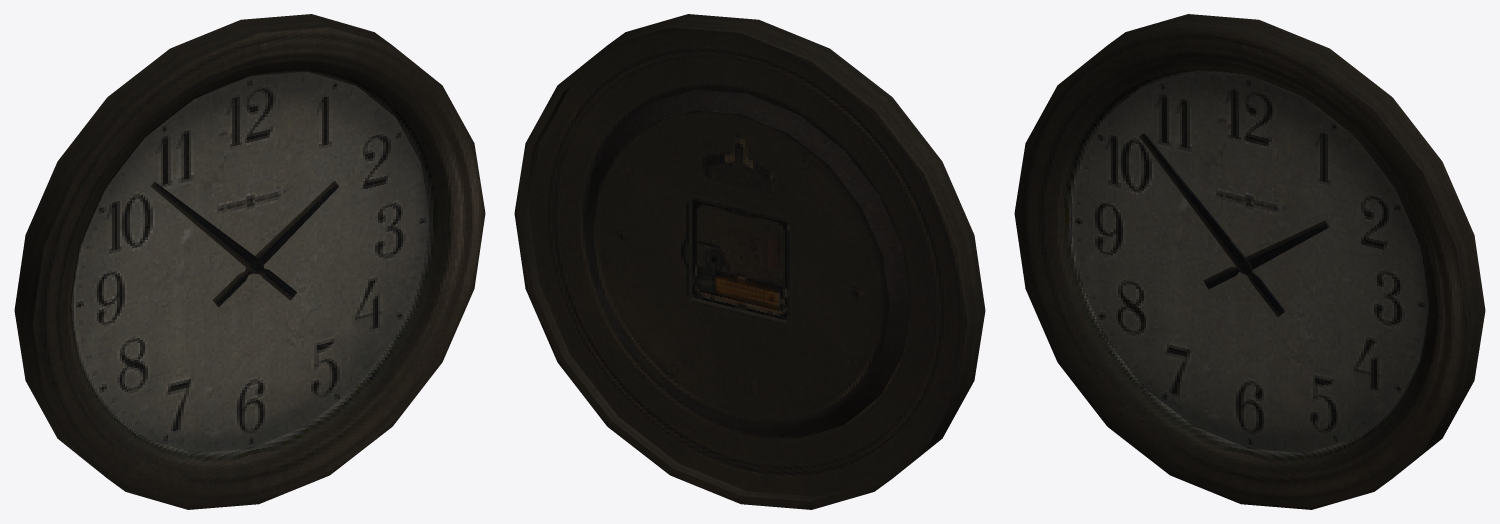
The model's file is clock_1.glb.
The picture shows the model from 3 angles, left to right: view 1: azimuth 30°, elevation 25°; view 2: azimuth 150°, elevation 25°; view 3: azimuth 330°, elevation 25°; orthographic projection.
Visible parts, largest first — view 1: clock_1, clock_1_arm_minutes, clock_1_arm_hours; view 2: clock_1; view 3: clock_1, clock_1_arm_minutes, clock_1_arm_hours.
Part boxes in pixels (left/top/right/bottom): clock_1: left=14, top=14, right=485, bottom=509; clock_1_arm_minutes: left=151, top=181, right=296, bottom=300; clock_1_arm_hours: left=212, top=181, right=339, bottom=307; clock_1: left=514, top=14, right=985, bottom=509; clock_1: left=1014, top=14, right=1485, bottom=509; clock_1_arm_minutes: left=1139, top=132, right=1285, bottom=317; clock_1_arm_hours: left=1203, top=220, right=1329, bottom=289.
Bounding box in the file's own units: 0.4023 × 0.4 × 0.03.
1 material, 1 textured.
